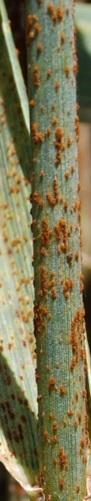Sugarcane: (24, 13, 91, 477)
